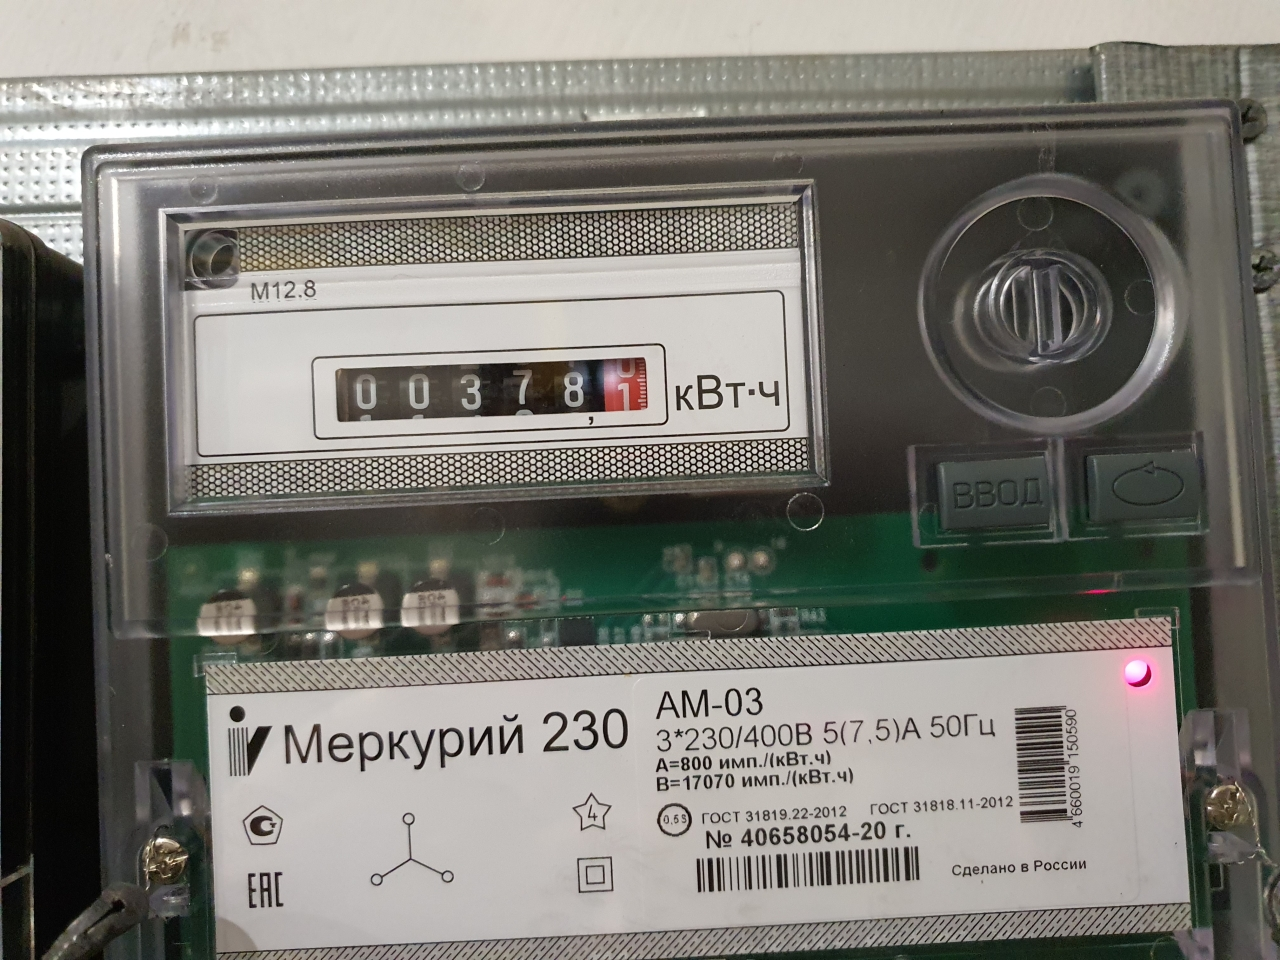0: (353, 370, 381, 411), (406, 371, 431, 410), (615, 357, 637, 379)
1: (614, 380, 634, 411)
3: (458, 371, 484, 412)
7: (510, 367, 534, 406)
8: (561, 369, 586, 409)
screen: (315, 339, 667, 432)
